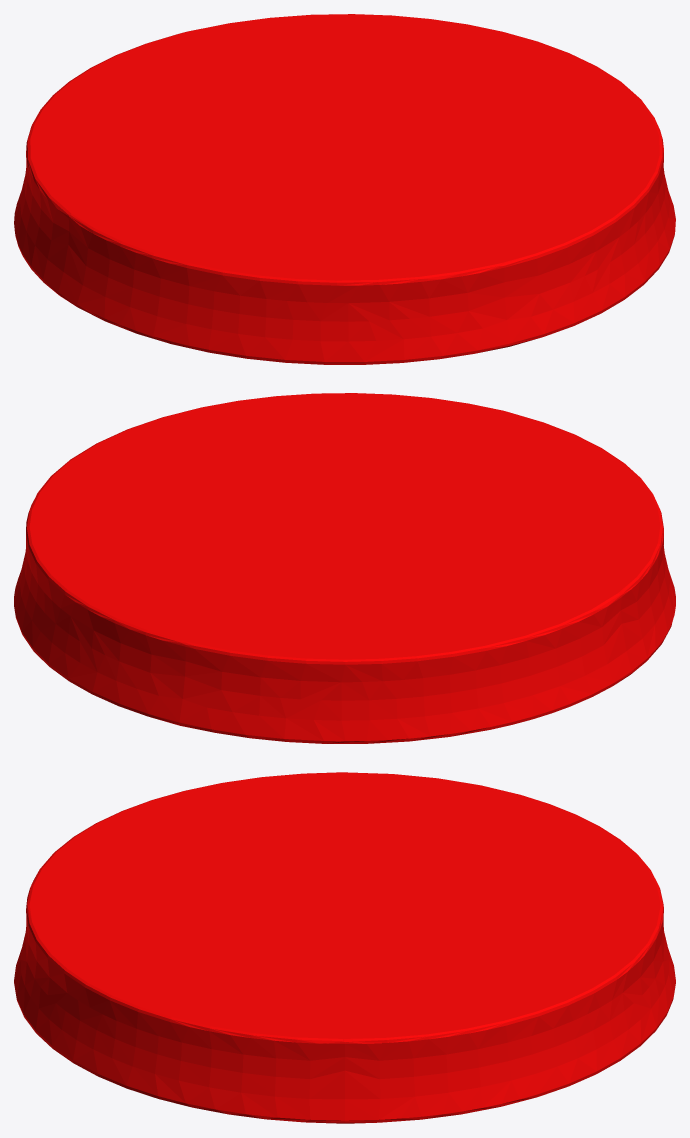
3 views of the same model, one above another, from view 1: azimuth 30°, elevation 25°; view 2: azimuth 150°, elevation 25°; view 3: azimuth 270°, elevation 25° (orthographic).
Parts seen in each view (by area): view 1: A0912_5_1; view 2: A0912_5_1; view 3: A0912_5_1.
Part boxes in pixels (x1,y1,x2,y2): A0912_5_1: (14,14,675,364); A0912_5_1: (14,393,675,743); A0912_5_1: (14,772,675,1123).
Bounding box in the file's own units: 89.98 × 89.98 × 11.9.
